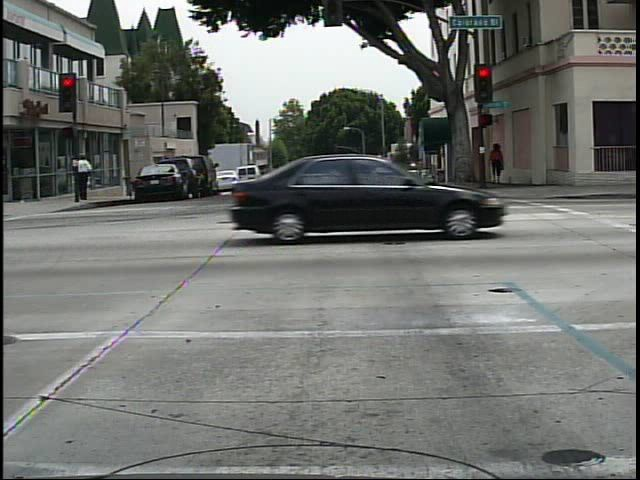person: (79, 147, 99, 203), (488, 137, 509, 187)
